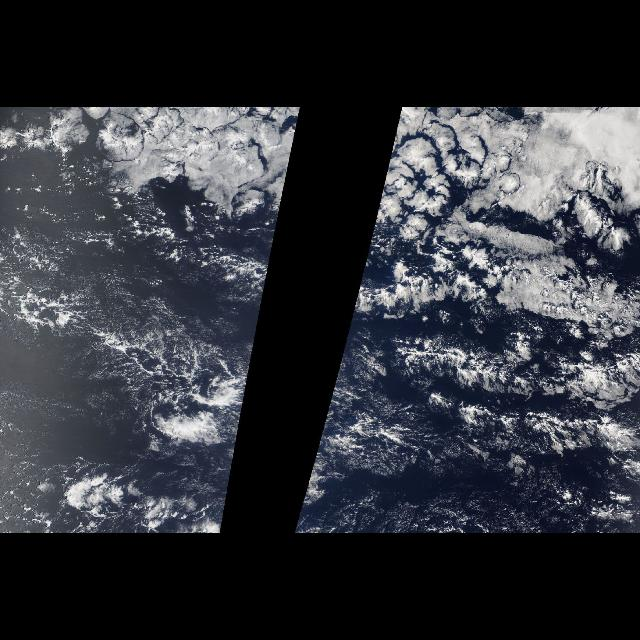Fish: (312, 256, 640, 478), (10, 256, 270, 464)
Sugar: (72, 237, 182, 336)
